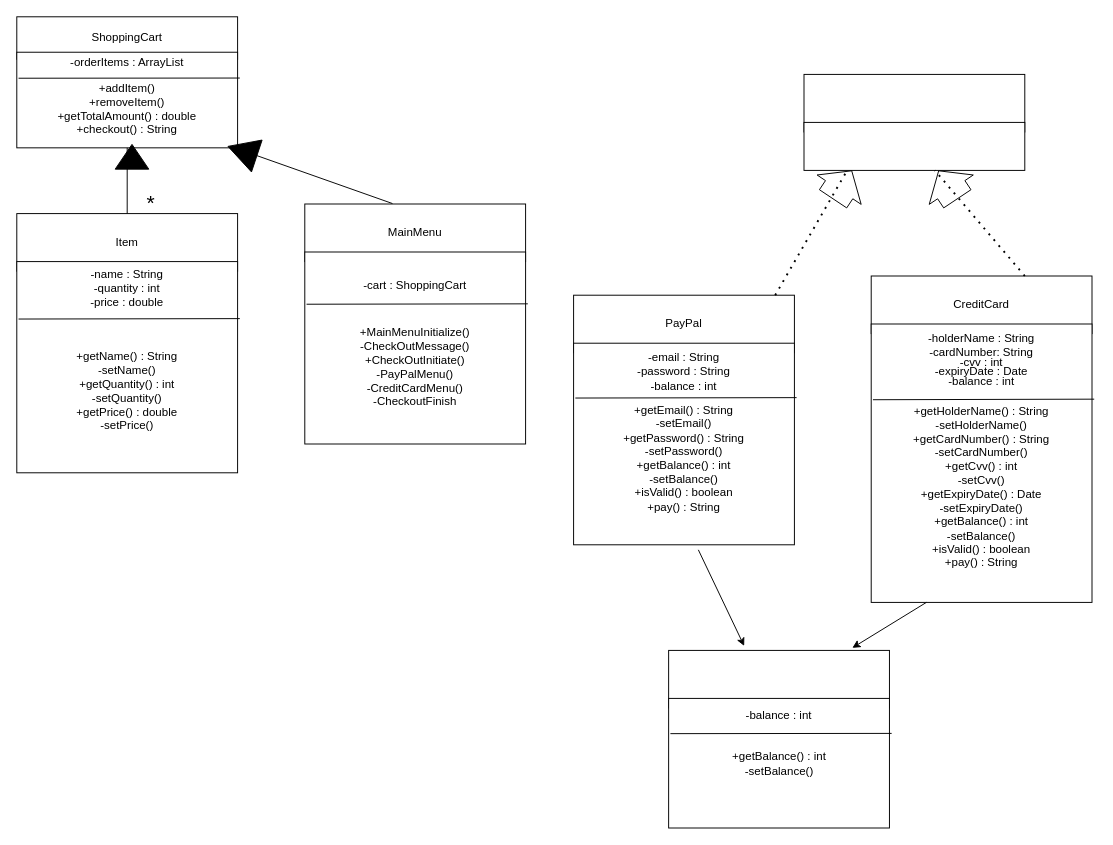
The diagram is 1113 pixels wide and 845 high, and some of its shapes have lost their labels. The shapes that lost their labels are listed below. From the top down, each one's box as (x1, y1, x2, y2) in pixels, then its label:
(803, 73, 1025, 132): <<interface>> PaymentMethod
(803, 121, 1025, 170): +isValid() : boolean +pay() : String
(668, 649, 889, 708): <<abstract>> AbstractBalance
